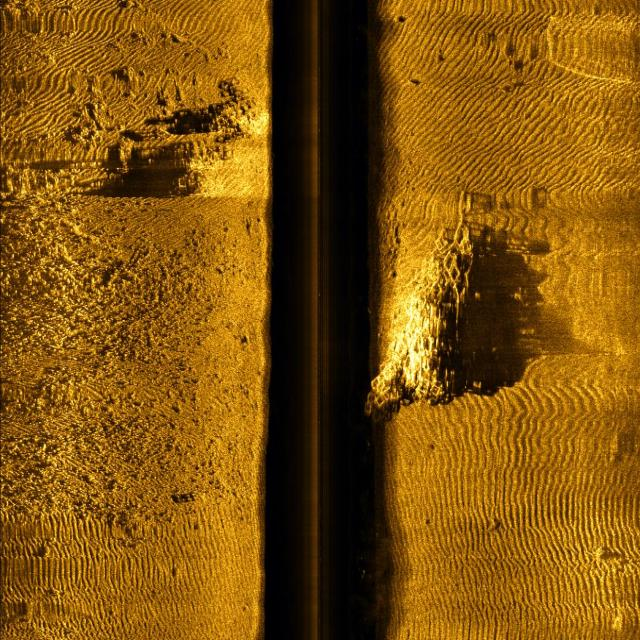artificial reef: (343, 188, 492, 427)
